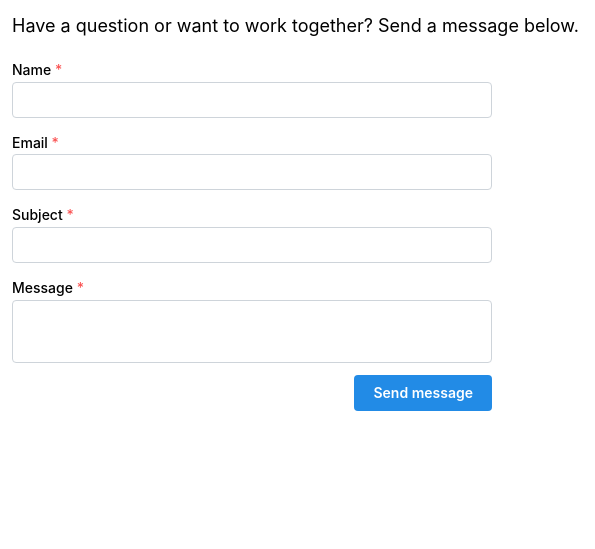
ContactPage submission › shows an error message when the request fails
The width and height of the screenshot is (595, 549).
In the field labelled "Name": (252, 100) [12, 82, 492, 118], type "Jane Recruiter"
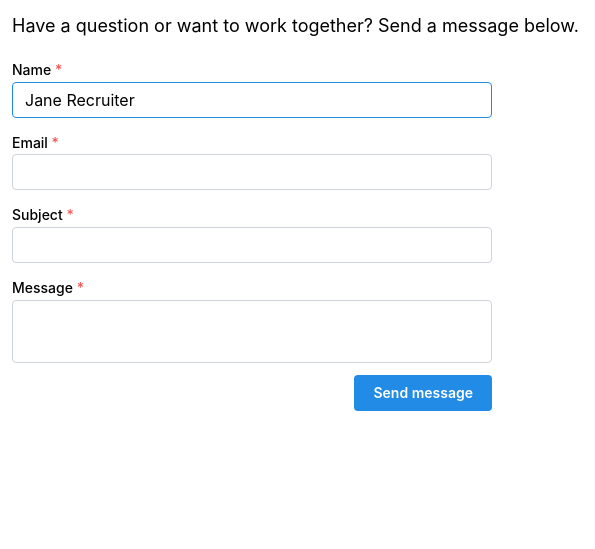
In the field labelled "Email": (252, 172) [12, 154, 492, 190], type "jane@example.com"
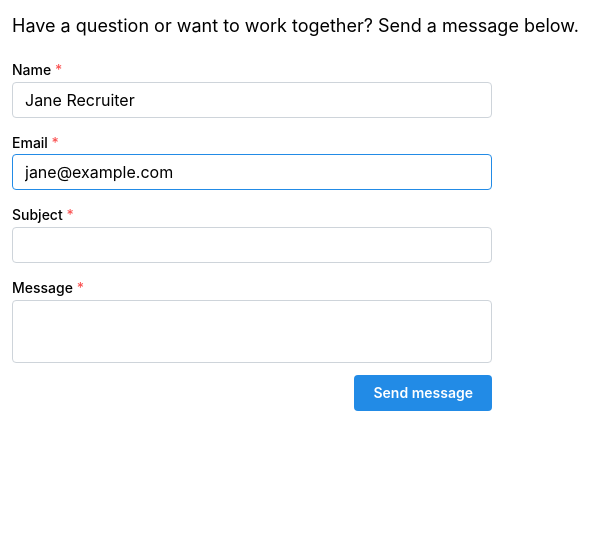
In the field labelled "Subject": (252, 245) [12, 227, 492, 263], type "Let's talk"
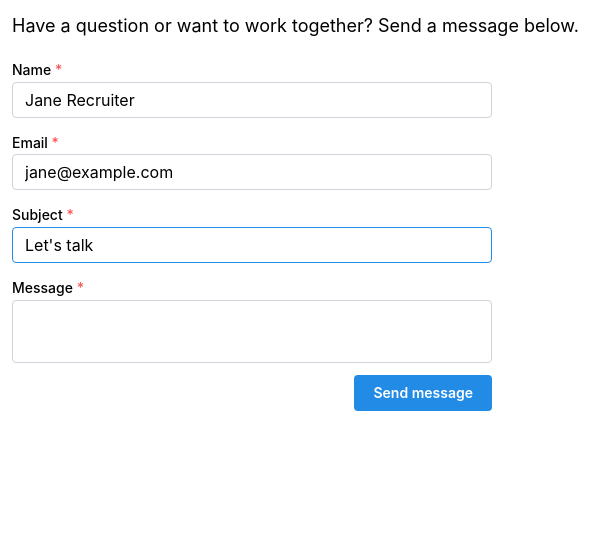
In the text box labelled "Message": (252, 331) [12, 300, 492, 363], type "Are you open to opportunities?"
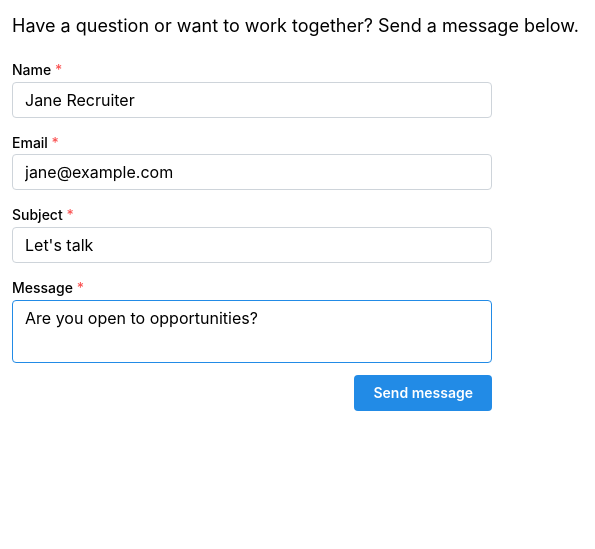
Click the button "Send message": (423, 393) [354, 375, 492, 411]
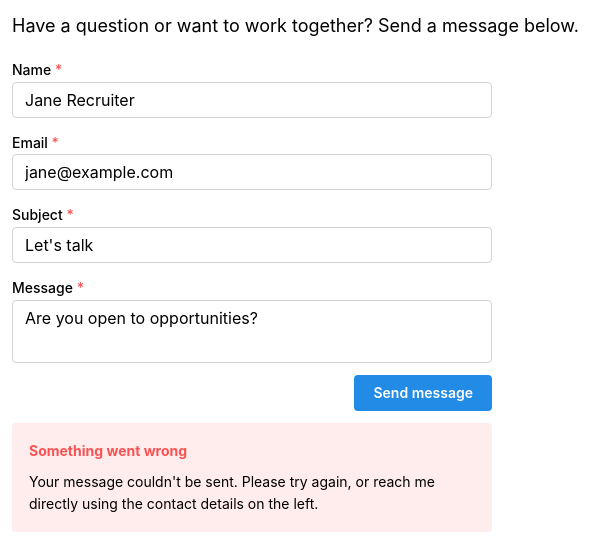
Check: the text "Something went wrong" is shown, box [29, 440, 187, 461]
